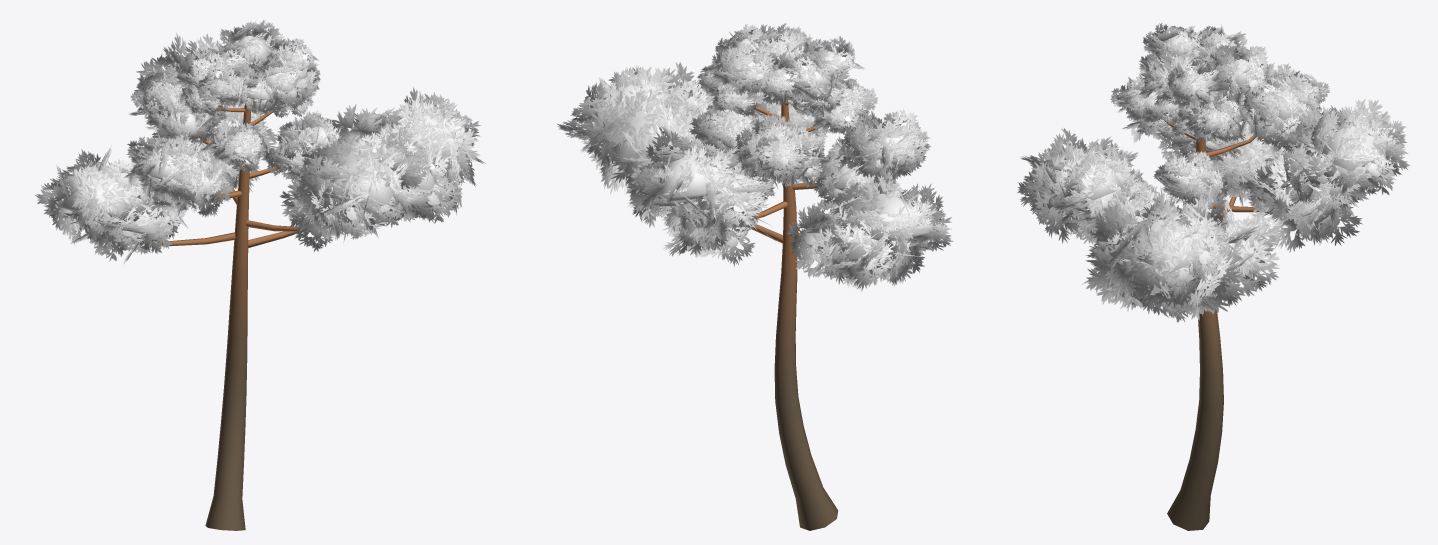
The model's file is tall-hero.glb.
3 renders of one model, left to right at view 1: azimuth 30°, elevation 25°; view 2: azimuth 150°, elevation 25°; view 3: azimuth 270°, elevation 25°, orthographic. The views are drawn at different scales.
Visible parts, largest first — view 1: crown, trunk; view 2: crown, trunk; view 3: crown, trunk.
Boxes of the visible parts, x1,y1,x2,y2 form: crown: (35, 20, 485, 262); trunk: (153, 103, 310, 530); crown: (557, 23, 953, 291); trunk: (747, 99, 838, 530); crown: (1017, 23, 1410, 322); trunk: (1163, 99, 1265, 530).
Bounding box in the file's own units: 17.79 × 19.17 × 14.7.
Materials: 2 (1 with a texture image).
